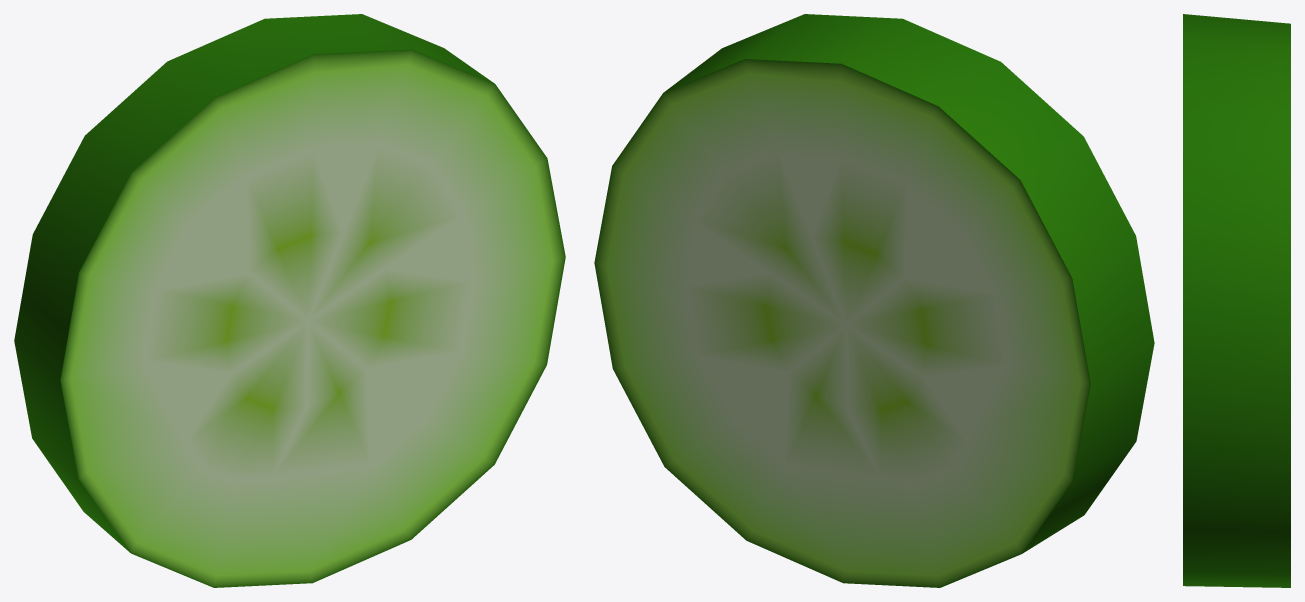
Rendered from Cucumber_Slice_13.fbx.
3 views of the same model, side by side, from view 1: azimuth 30°, elevation 25°; view 2: azimuth 150°, elevation 25°; view 3: azimuth 270°, elevation 25° (orthographic). The views are drawn at different scales.
Parts seen in each view (by area): view 1: Cucumber_Slice_13; view 2: Cucumber_Slice_13; view 3: Cucumber_Slice_13.
Part boxes in pixels (x1,y1,x2,y2): Cucumber_Slice_13: (14, 14, 565, 587); Cucumber_Slice_13: (594, 14, 1154, 587); Cucumber_Slice_13: (1183, 14, 1290, 587).
Bounding box in the file's own units: 4.58 × 4.56 × 0.8617.
